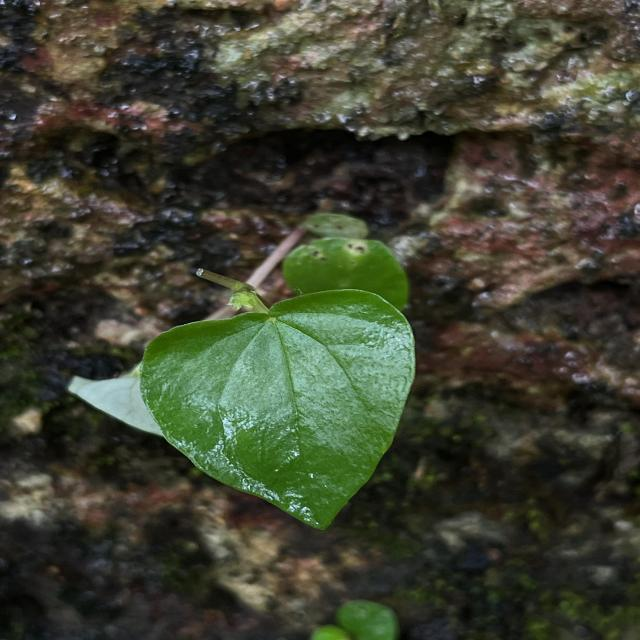Peperomia pellucida: (137, 286, 419, 532)
